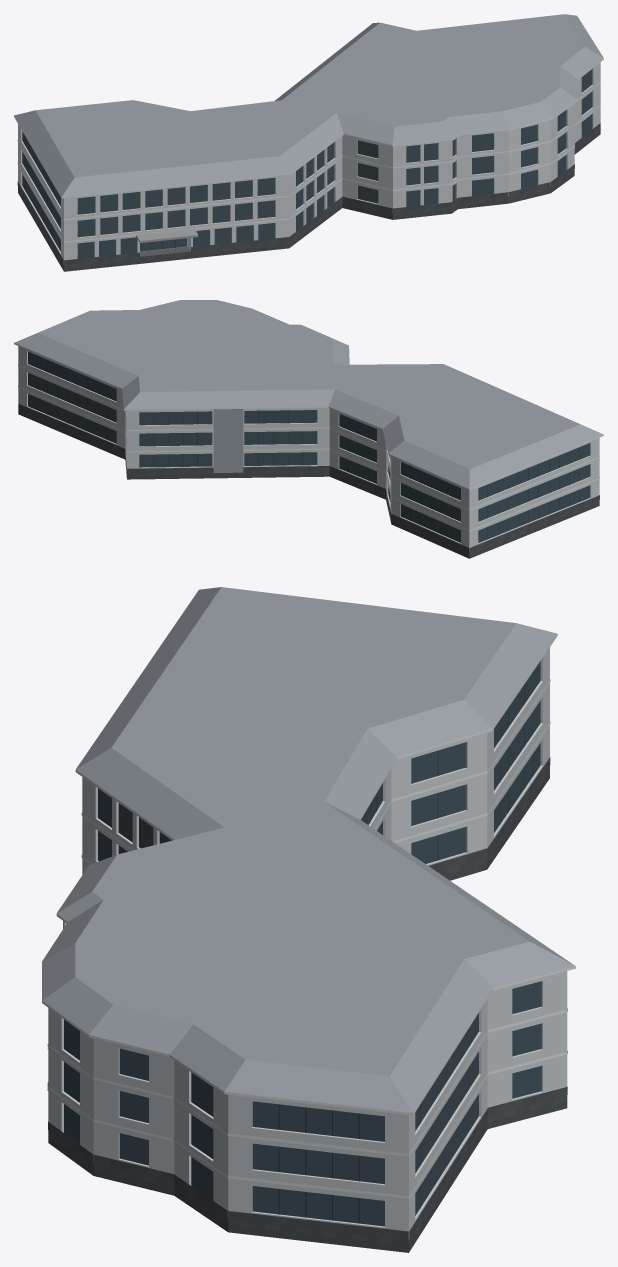
3 views of the same model, one above another, from view 1: azimuth 30°, elevation 25°; view 2: azimuth 150°, elevation 25°; view 3: azimuth 270°, elevation 25° (orthographic). The views are drawn at different scales.
Visible parts, largest first — view 1: facultyClub__roofAccent, facultyClub__wall, facultyClub__glass, facultyClub__base, facultyClub__trim, facultyClub__canopy; view 2: facultyClub__roofAccent, facultyClub__glass, facultyClub__wall, facultyClub__base, facultyClub__trim, facultyClub__wall2, facultyClub__frame; view 3: facultyClub__roofAccent, facultyClub__wall, facultyClub__glass, facultyClub__base, facultyClub__trim, facultyClub__frame.
Boxes of the visible parts, bbox=[...] form: facultyClub__roofAccent: bbox=[14, 14, 603, 197]; facultyClub__wall: bbox=[18, 62, 600, 263]; facultyClub__glass: bbox=[22, 69, 592, 258]; facultyClub__base: bbox=[17, 123, 600, 271]; facultyClub__trim: bbox=[14, 58, 603, 242]; facultyClub__canopy: bbox=[136, 228, 198, 242]; facultyClub__roofAccent: bbox=[14, 300, 603, 489]; facultyClub__glass: bbox=[28, 351, 589, 542]; facultyClub__wall: bbox=[18, 346, 599, 551]; facultyClub__base: bbox=[18, 404, 599, 558]; facultyClub__trim: bbox=[14, 343, 603, 531]; facultyClub__wall2: bbox=[213, 409, 243, 472]; facultyClub__frame: bbox=[37, 356, 579, 538]; facultyClub__roofAccent: bbox=[42, 587, 575, 1113]; facultyClub__wall: bbox=[48, 647, 567, 1239]; facultyClub__glass: bbox=[64, 661, 541, 1226]; facultyClub__base: bbox=[47, 757, 567, 1252]; facultyClub__trim: bbox=[42, 634, 575, 1198]; facultyClub__frame: bbox=[278, 684, 524, 1223].
Bounding box in the file's own units: 101 × 14.64 × 43.47.
10 materials, 1 textured.
